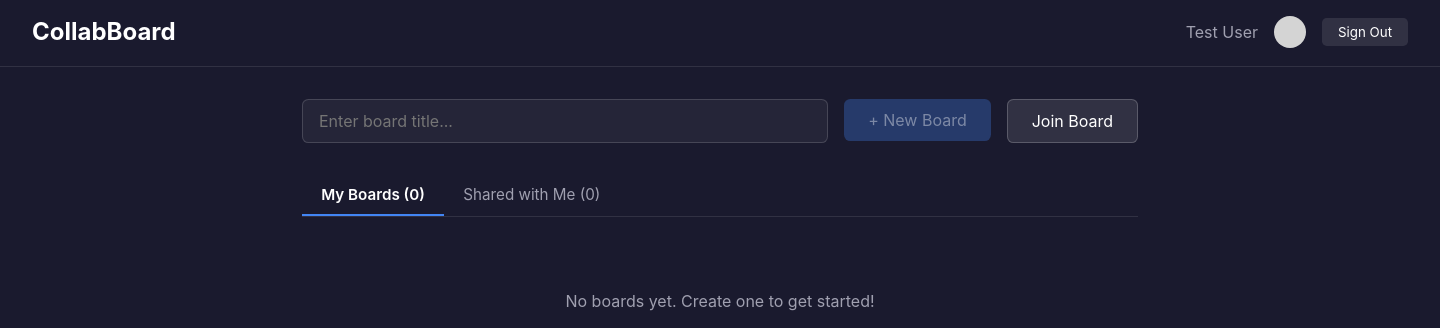
Scenario: DashboardPage › enables + New Board button when title is entered
Step 1. Type "My Board" into the field with placeholder "Enter board title..." → (565, 121), box [302, 99, 828, 143]
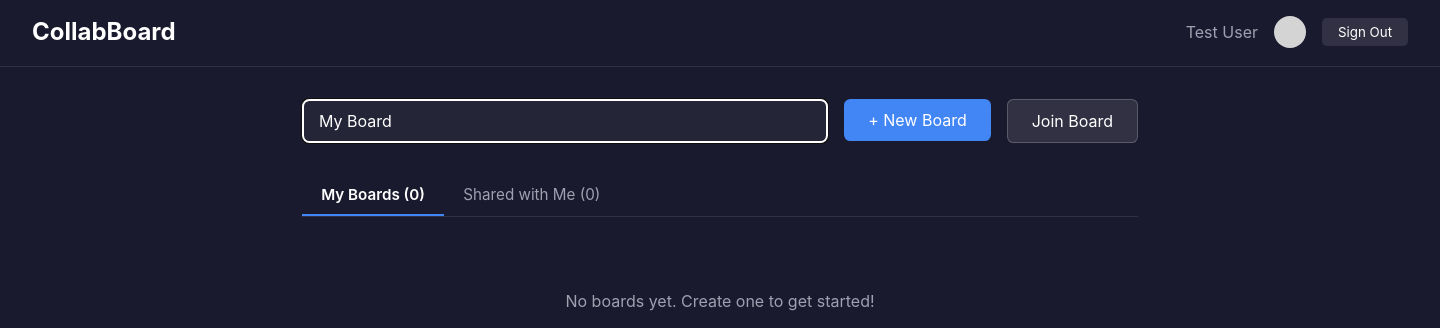
Expected: the button "+ New Board" is enabled, [844, 99, 991, 141]
